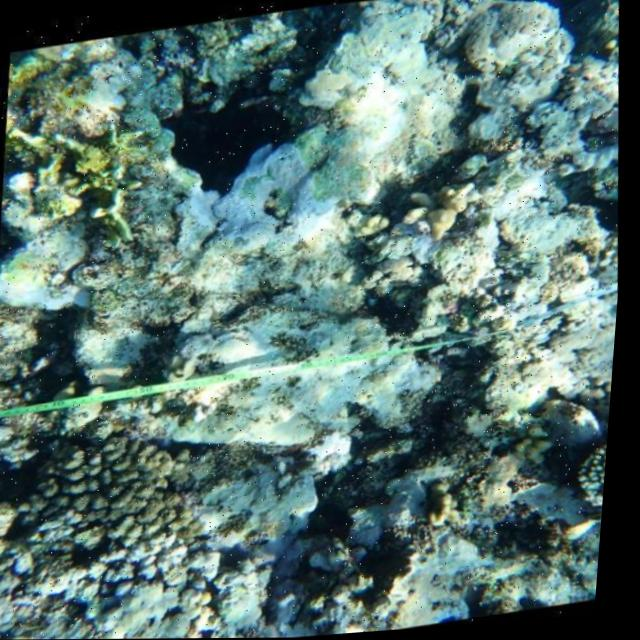Bleached Coral: (148, 282, 448, 479), (369, 186, 629, 408), (418, 0, 632, 211), (0, 497, 301, 640), (166, 129, 367, 256)
Dead Coral: (19, 428, 233, 554)
